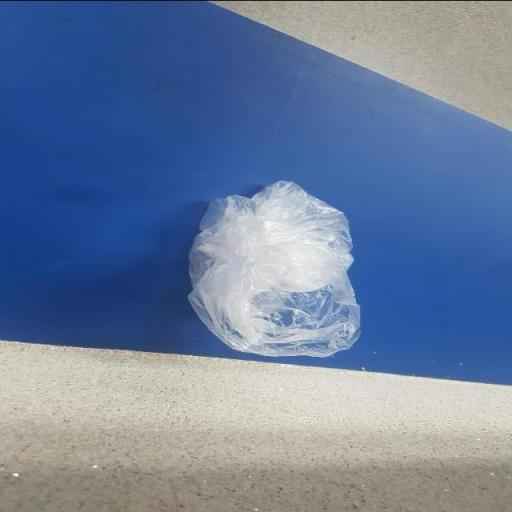plastic-bag: (183, 174, 367, 356)
